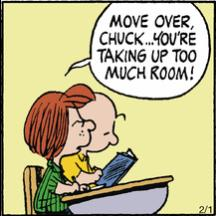charlie: (60, 91, 128, 189)
